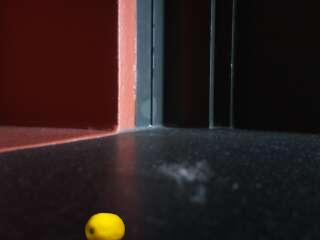Lemon: (84, 212, 126, 240)
